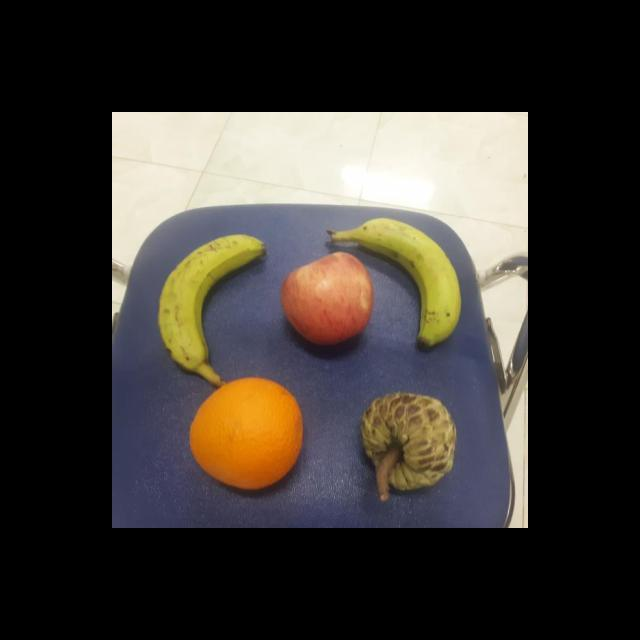Sakya fruit: (360, 390, 456, 490)
apple: (280, 250, 374, 344)
banana: (324, 218, 460, 350), (158, 234, 266, 376)
orange: (188, 378, 304, 488)
